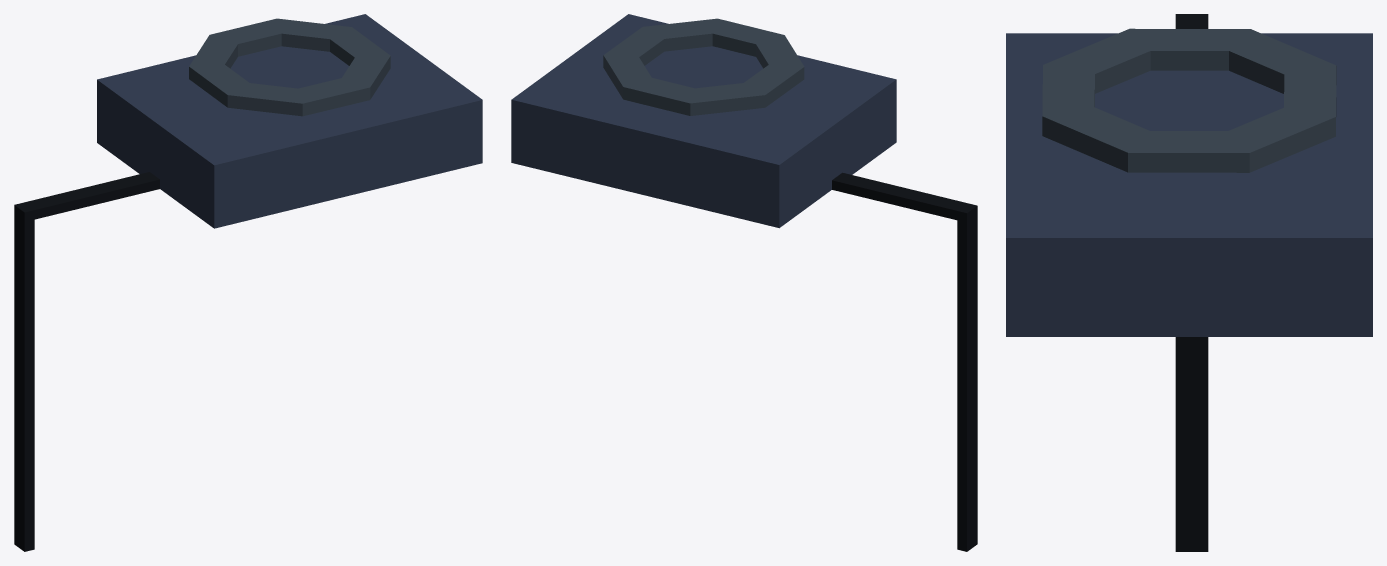
File: air_conditioning_02.fbx
The picture shows the model from 3 angles, left to right: view 1: azimuth 30°, elevation 25°; view 2: azimuth 150°, elevation 25°; view 3: azimuth 270°, elevation 25°; orthographic projection. The views are drawn at different scales.
Visible parts, largest first — view 1: air_conditioning_02; view 2: air_conditioning_02; view 3: air_conditioning_02.
Part boxes in pixels (box(x1,y1,x2,y2)): air_conditioning_02: box(14, 14, 482, 551); air_conditioning_02: box(511, 14, 977, 551); air_conditioning_02: box(1006, 14, 1372, 551).
Size of the model in its own units: 267 by 266 by 134.
1 material, 1 textured.
